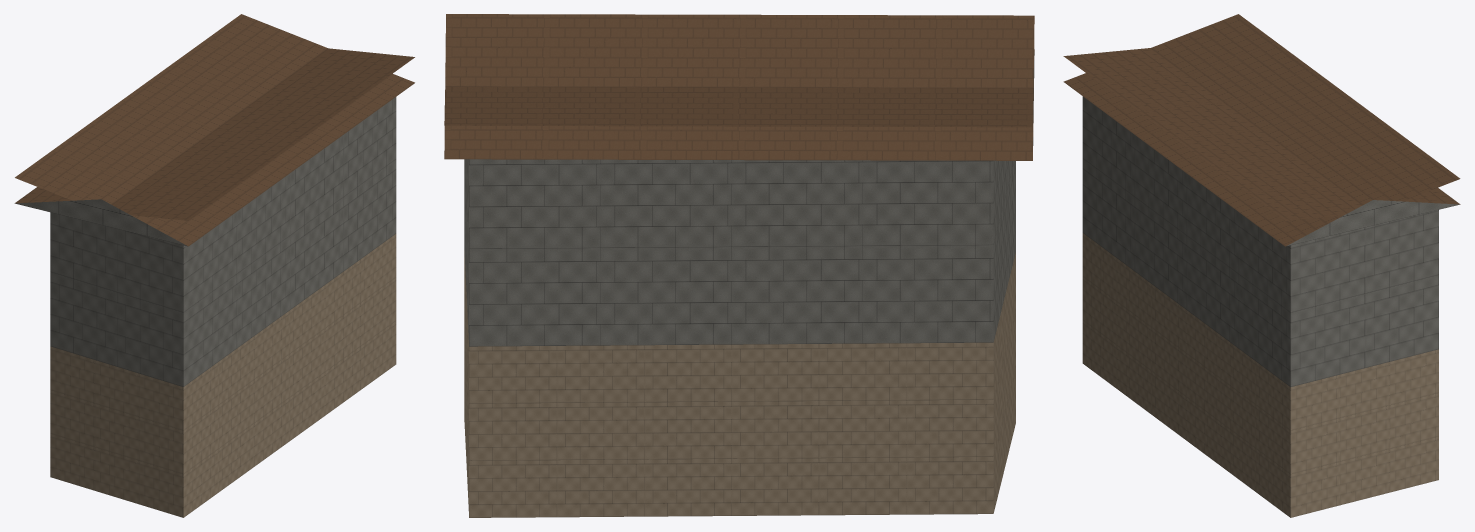
Rendered from bld_c-24_23_701.gltf.
3 views of the same model, side by side, from view 1: azimuth 30°, elevation 25°; view 2: azimuth 150°, elevation 25°; view 3: azimuth 270°, elevation 25° (orthographic). The views are drawn at different scales.
Visible parts, largest first — view 1: bld_c-24_23_701; view 2: bld_c-24_23_701; view 3: bld_c-24_23_701.
Part boxes in pixels (x1,y1,x2,y2): bld_c-24_23_701: (14, 14, 414, 517); bld_c-24_23_701: (444, 14, 1034, 517); bld_c-24_23_701: (1063, 14, 1460, 517).
Size of the model in its own units: 17.32 by 11.9 by 14.05.
4 materials, 4 textured.
